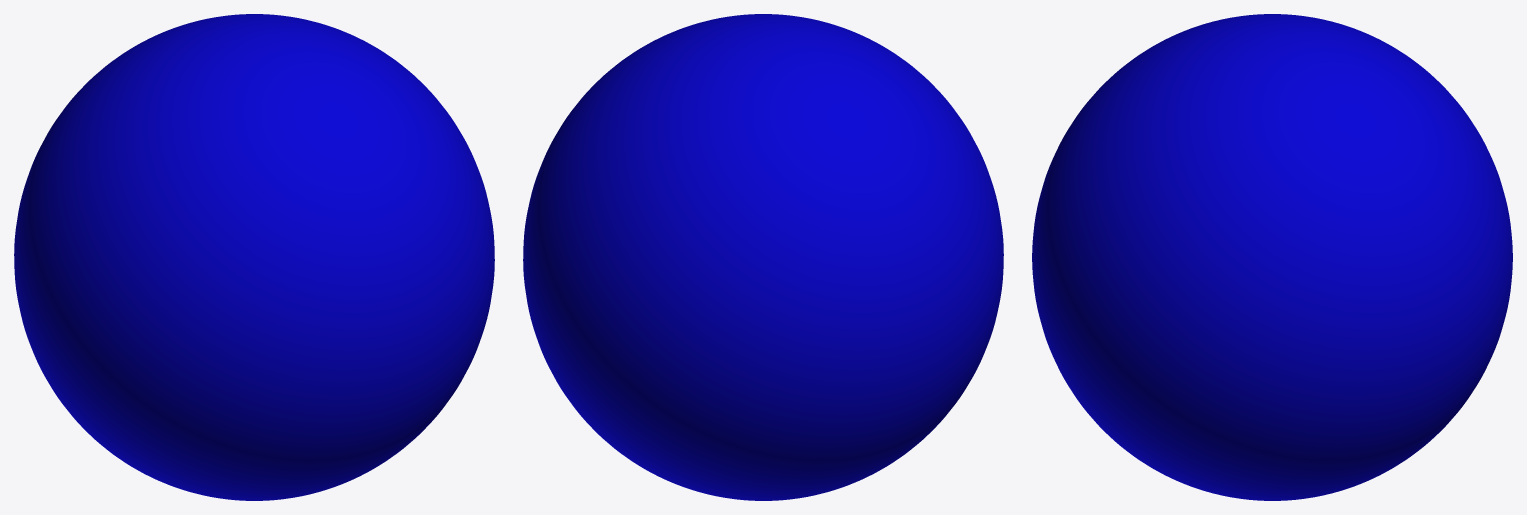
Rendered from sphere_small.fbx.
3 renders of one model, left to right at view 1: azimuth 30°, elevation 25°; view 2: azimuth 150°, elevation 25°; view 3: azimuth 270°, elevation 25°, orthographic.
Visible parts, largest first — view 1: pSphere1; view 2: pSphere1; view 3: pSphere1.
Part boxes in pixels (x1,y1,x2,y2): pSphere1: [14, 14, 494, 500]; pSphere1: [523, 14, 1003, 500]; pSphere1: [1032, 14, 1512, 500].
Bounding box in the file's own units: 508 × 517 × 508.
